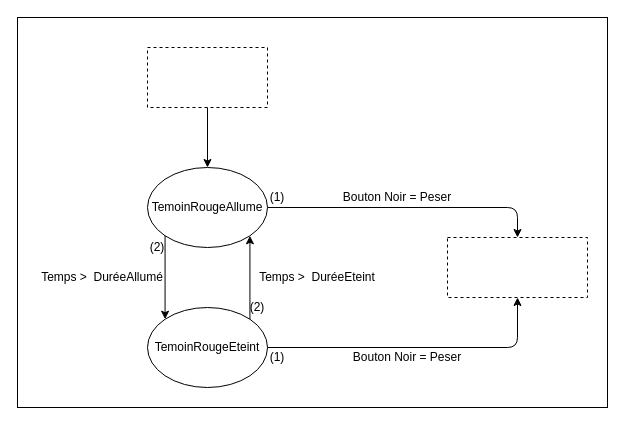
The diagram is 625 pixels wide and 425 high, and some of its shapes have lost their labels. The shapes that lost their labels are listed below. From the top down, each one's centre as x and y in pixels, then its label:
pixel 207 77: Mode Erreur
pixel 517 267: InitialisationCentreDeTri
